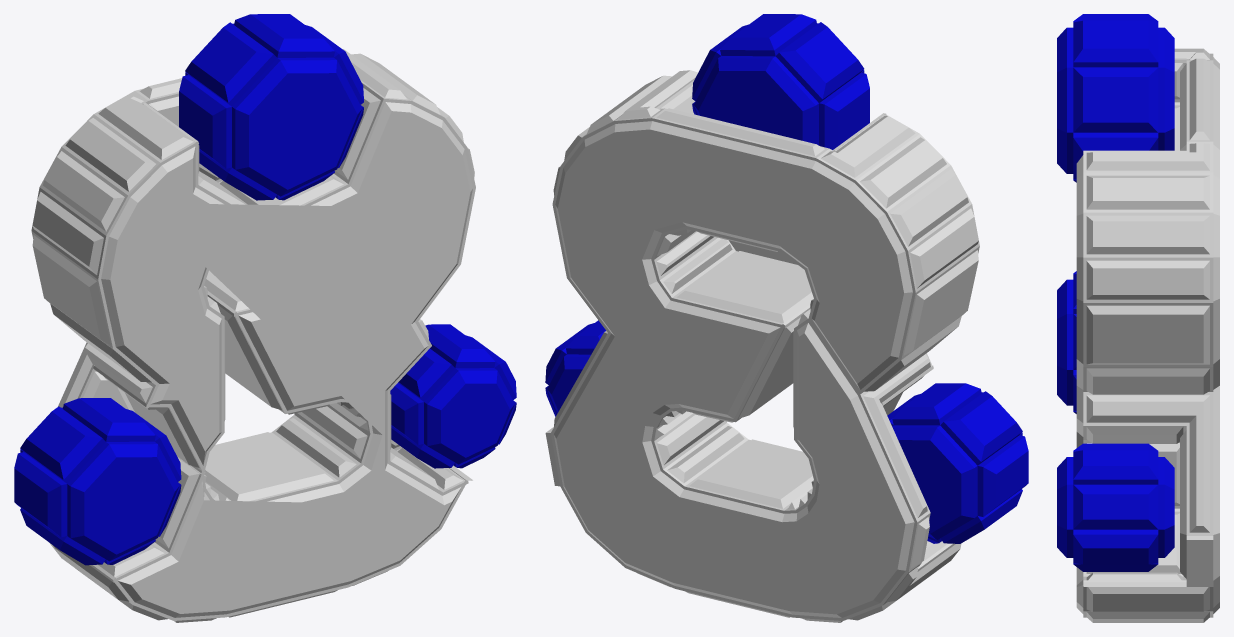
3 views of the same model, side by side, from view 1: azimuth 30°, elevation 25°; view 2: azimuth 150°, elevation 25°; view 3: azimuth 270°, elevation 25° (orthographic). The views are drawn at different scales.
Parts seen in each view (by area): view 1: sphere1; view 2: sphere1; view 3: sphere1.
Boxes of the visible parts, x1,y1,x2,y2 form: sphere1: [14, 14, 516, 622]; sphere1: [545, 14, 1028, 622]; sphere1: [1057, 14, 1219, 622].
Bounding box in the file's own units: 0.8101 × 0.9437 × 0.2503.
